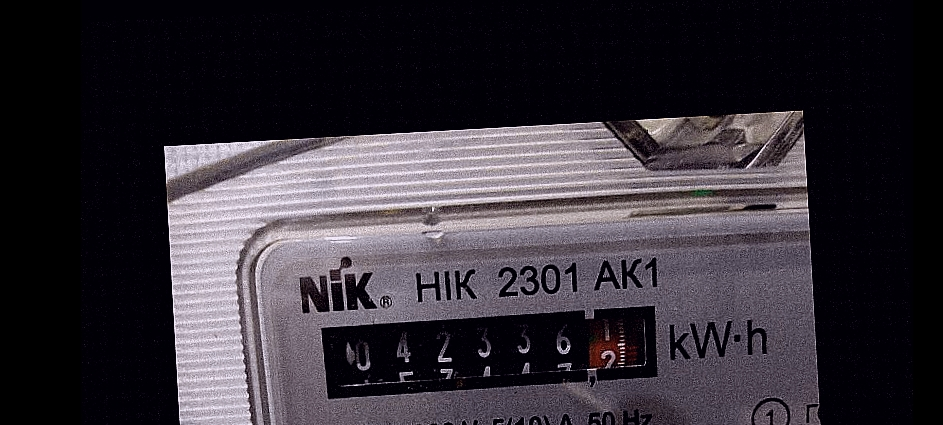0: (352, 336, 374, 372)
1: (600, 313, 614, 343)
2: (433, 327, 455, 364), (598, 347, 619, 369)
3: (474, 321, 495, 360), (512, 319, 534, 356)
4: (393, 327, 414, 365)
6: (551, 320, 575, 356)
screen: (313, 294, 670, 407)
